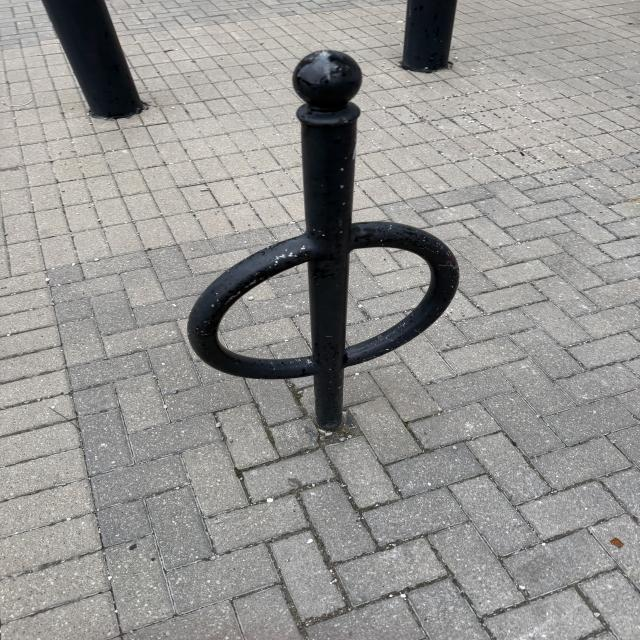Bicycle Rack: (189, 50, 466, 426)
